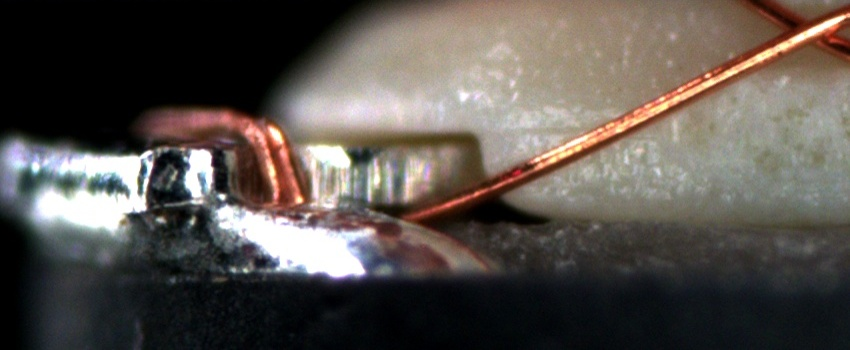CL: (757, 2, 847, 60)
DL: (505, 103, 657, 155)
TE: (149, 104, 314, 204)
